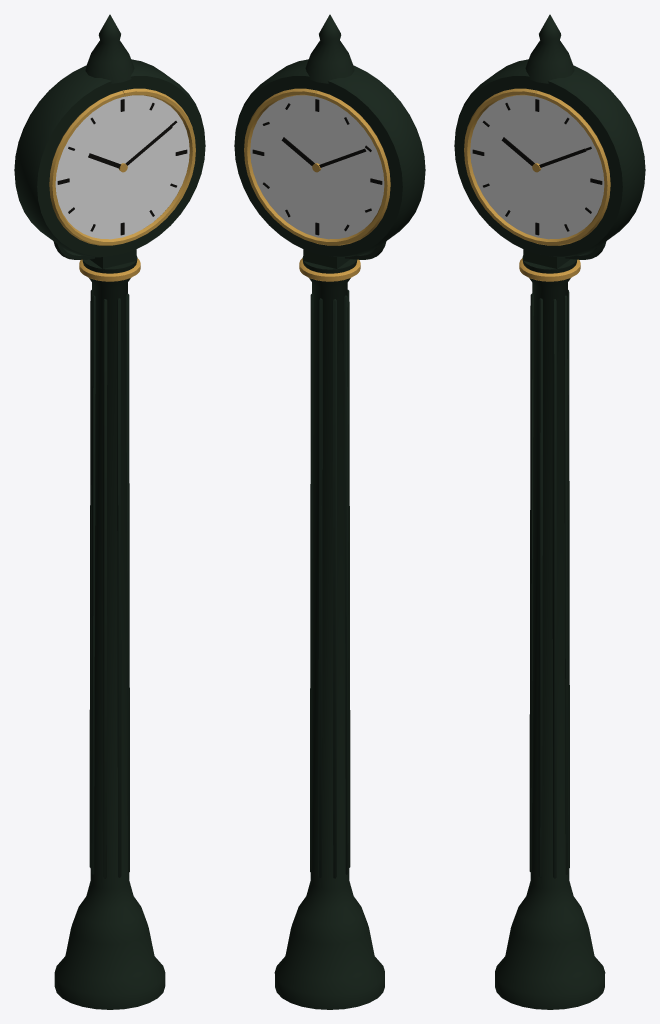
File: street_clock.glb
3 views of the same model, side by side, from view 1: azimuth 30°, elevation 25°; view 2: azimuth 150°, elevation 25°; view 3: azimuth 330°, elevation 25° (orthographic).
Visible parts, largest first — view 1: Sammel Lack, Zifferblatt Creme, Sammel Metall, Sammel Glatt; view 2: Sammel Lack, Zifferblatt Creme, Sammel Metall, Sammel Glatt; view 3: Sammel Lack, Zifferblatt Creme, Sammel Metall, Sammel Glatt.
Boxes of the visible parts, x1,y1,x2,y2 form: Sammel Lack: (14,14,205,1009); Zifferblatt Creme: (55,95,189,239); Sammel Metall: (49,88,195,281); Sammel Glatt: (57,99,187,235); Sammel Lack: (234,14,425,1009); Zifferblatt Creme: (250,95,384,239); Sammel Metall: (244,88,390,281); Sammel Glatt: (252,99,382,235); Sammel Lack: (454,14,645,1009); Zifferblatt Creme: (470,95,604,239); Sammel Metall: (464,88,610,281); Sammel Glatt: (472,99,602,235).
Size of what is drawn, in the model's own units: 0.62 by 3.31 by 0.3406.
